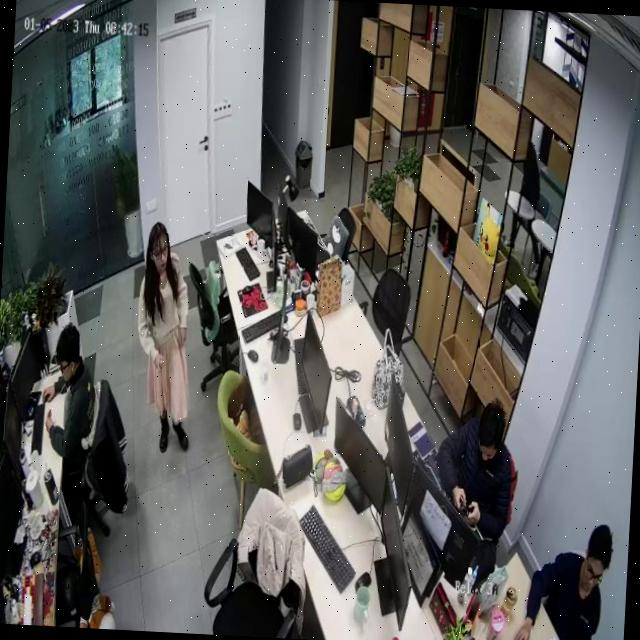person: (133, 223, 203, 456), (433, 399, 518, 545), (512, 521, 614, 640), (40, 324, 101, 468)
